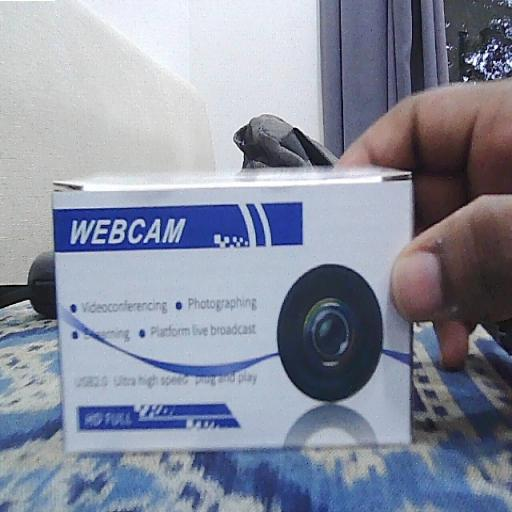webcam_box: (52, 166, 418, 454)
